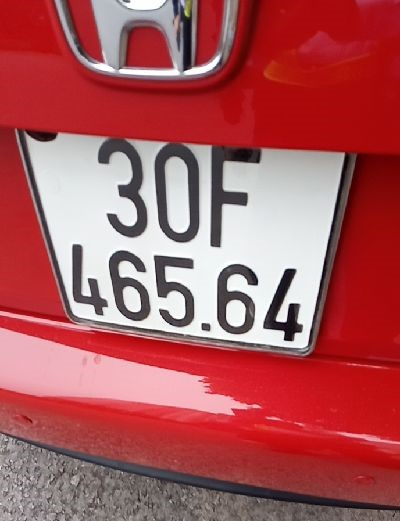number_plate: (17, 122, 344, 356)
